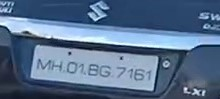MH01BG7161: (30, 44, 158, 92)
